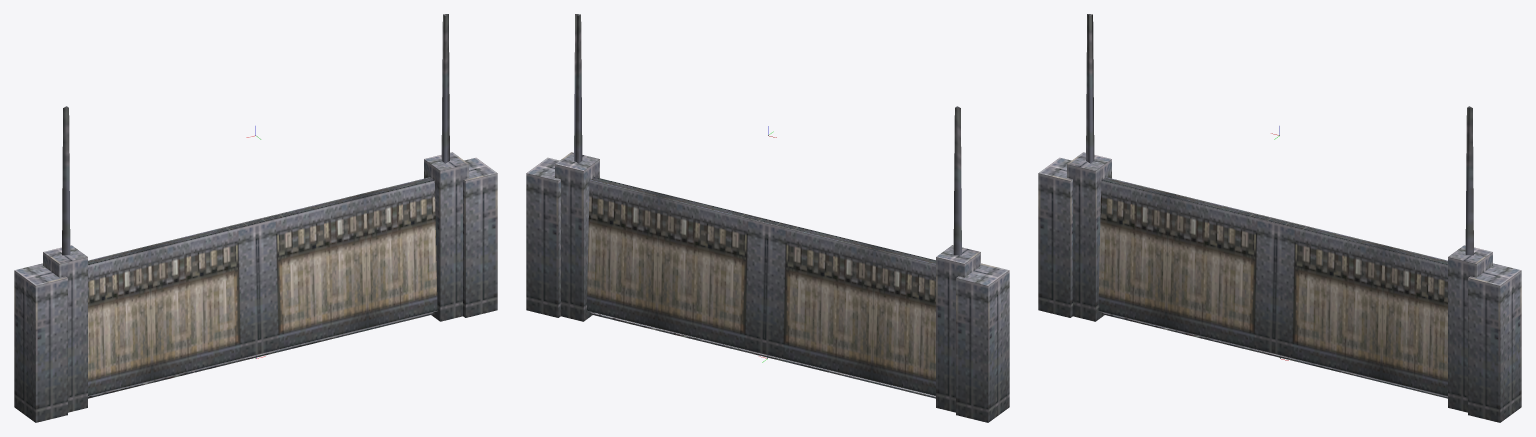
File: greek-gate.glb
3 renders of one model, left to right at view 1: azimuth 30°, elevation 25°; view 2: azimuth 150°, elevation 25°; view 3: azimuth 330°, elevation 25°, orthographic.
Parts seen in each view (by area): view 1: building g gate_closedModel; view 2: building g gate_closedModel; view 3: building g gate_closedModel.
Part boxes in pixels (box(x1,y1,x2,y2)): building g gate_closedModel: box(14, 14, 497, 422); building g gate_closedModel: box(526, 14, 1009, 422); building g gate_closedModel: box(1038, 14, 1521, 422).
Size of the model in its own units: 12.12 by 7.47 by 0.9727.
Materials: 2 (1 with a texture image).
